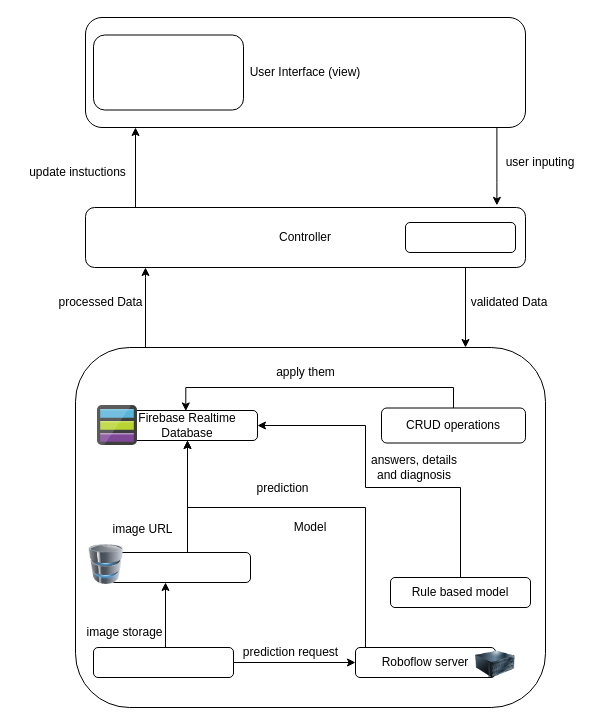
Some shapes in this 602 by 725 pixel diagram are drawn without their labels. Each missing label, with the centre of its shape:
Firebase Firestore: the point at 180,567
input validation: the point at 460,237
Update view confirmation, errors, profile, navifgation: the point at 168,72
X-ray Processing: the point at 163,662
